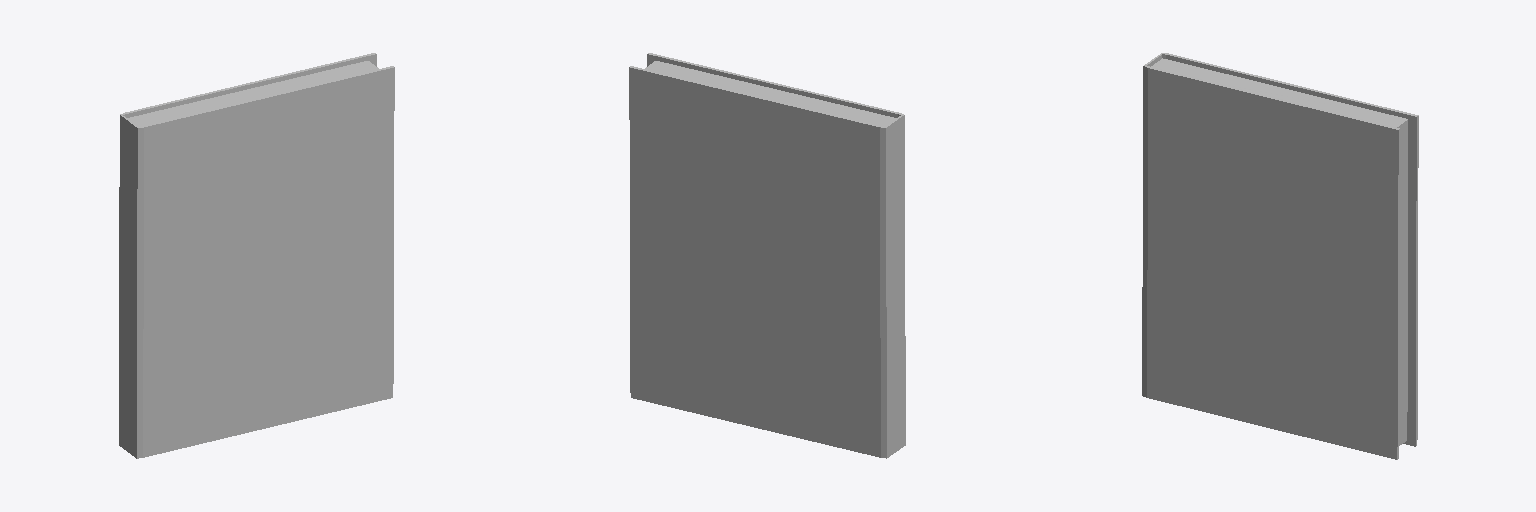
The model's file is book.obj.
3 renders of one model, left to right at view 1: azimuth 30°, elevation 25°; view 2: azimuth 150°, elevation 25°; view 3: azimuth 330°, elevation 25°, orthographic.
Parts seen in each view (by area): view 1: book_set; view 2: book_set; view 3: book_set.
Part boxes in pixels (left/top/right/bottom): book_set: left=119, top=53, right=394, bottom=458; book_set: left=629, top=53, right=905, bottom=458; book_set: left=1142, top=53, right=1418, bottom=459.
Bounding box in the file's own units: 24.76 × 30.46 × 3.33.